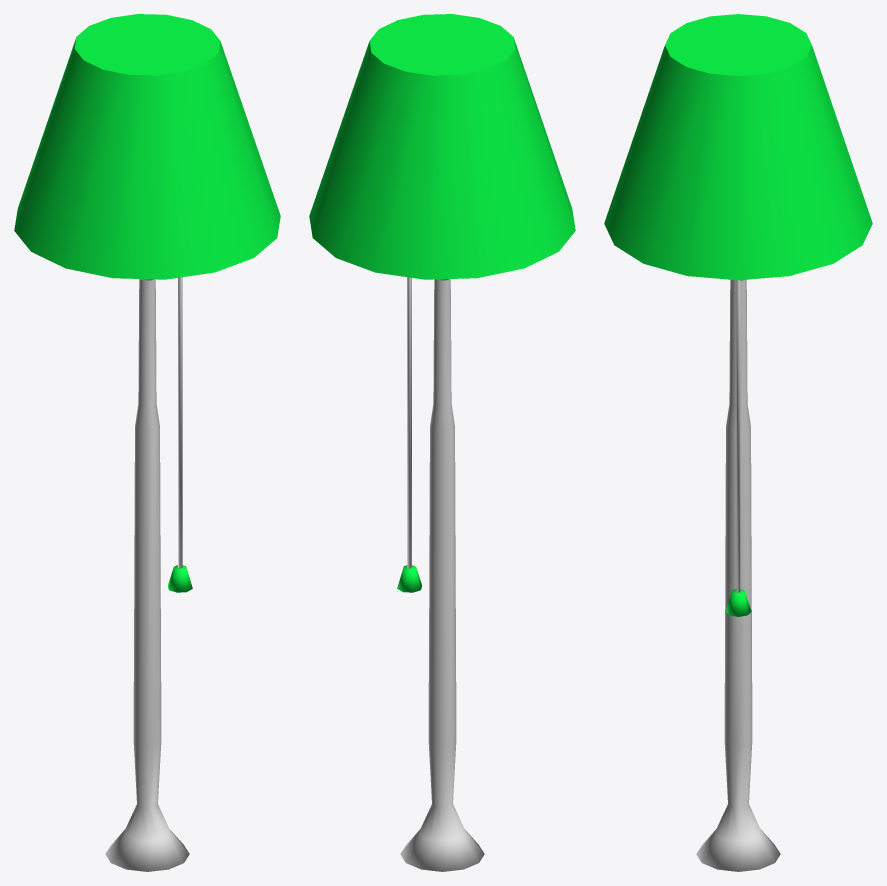
File: Lamp.fbx
3 views of the same model, side by side, from view 1: azimuth 30°, elevation 25°; view 2: azimuth 150°, elevation 25°; view 3: azimuth 270°, elevation 25° (orthographic).
Visible parts, largest first — view 1: pCylinder6; view 2: pCylinder6; view 3: pCylinder6.
Part boxes in pixels (left/top/right/bottom): pCylinder6: left=14, top=14, right=280, bottom=871; pCylinder6: left=309, top=14, right=575, bottom=871; pCylinder6: left=604, top=14, right=872, bottom=871.
Size of the model in its own units: 231 by 766 by 231.
